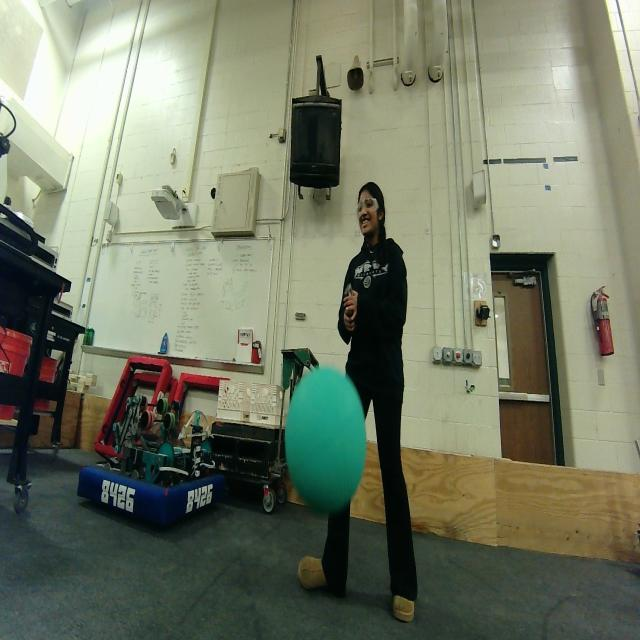algae: (282, 349, 366, 519)
